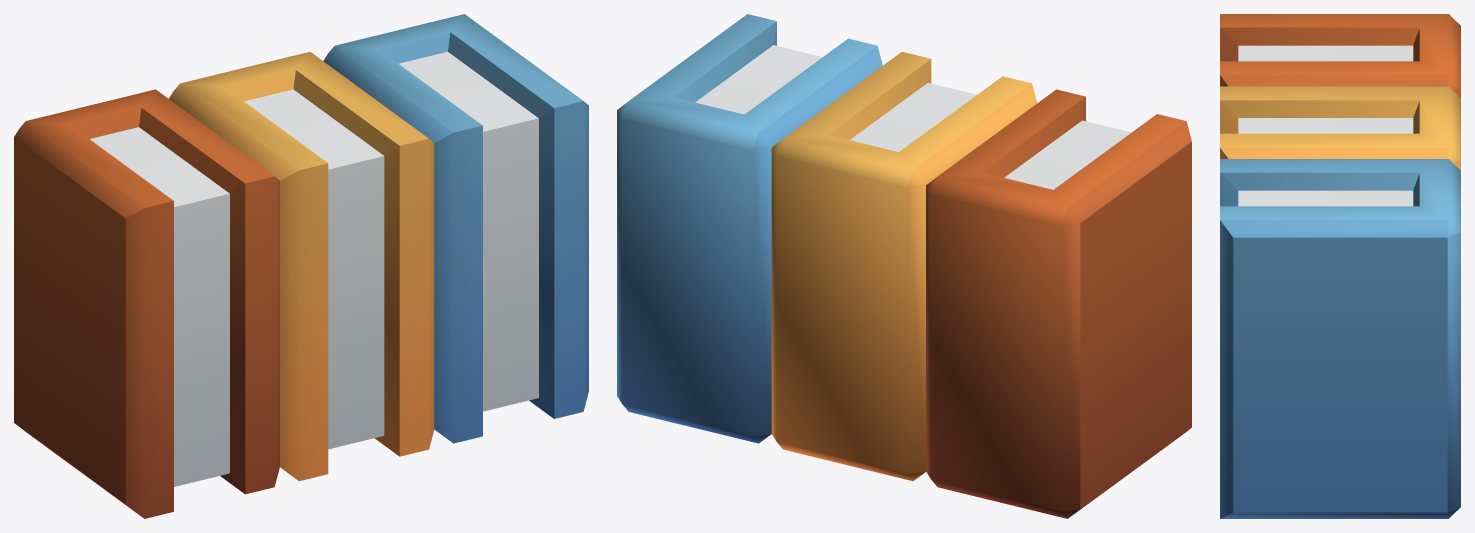
File: books.glb
3 renders of one model, left to right at view 1: azimuth 30°, elevation 25°; view 2: azimuth 150°, elevation 25°; view 3: azimuth 270°, elevation 25°, orthographic. The views are drawn at different scales.
Visible parts, largest first — view 1: book_set; view 2: book_set; view 3: book_set.
Boxes of the visible parts, box(x1,y1,x2,y2) form: book_set: box(14, 14, 588, 518); book_set: box(617, 14, 1191, 518); book_set: box(1220, 14, 1460, 518).
Size of the model in its own units: 0.78 by 0.5 by 0.365.
Materials: 1 (1 with a texture image).
